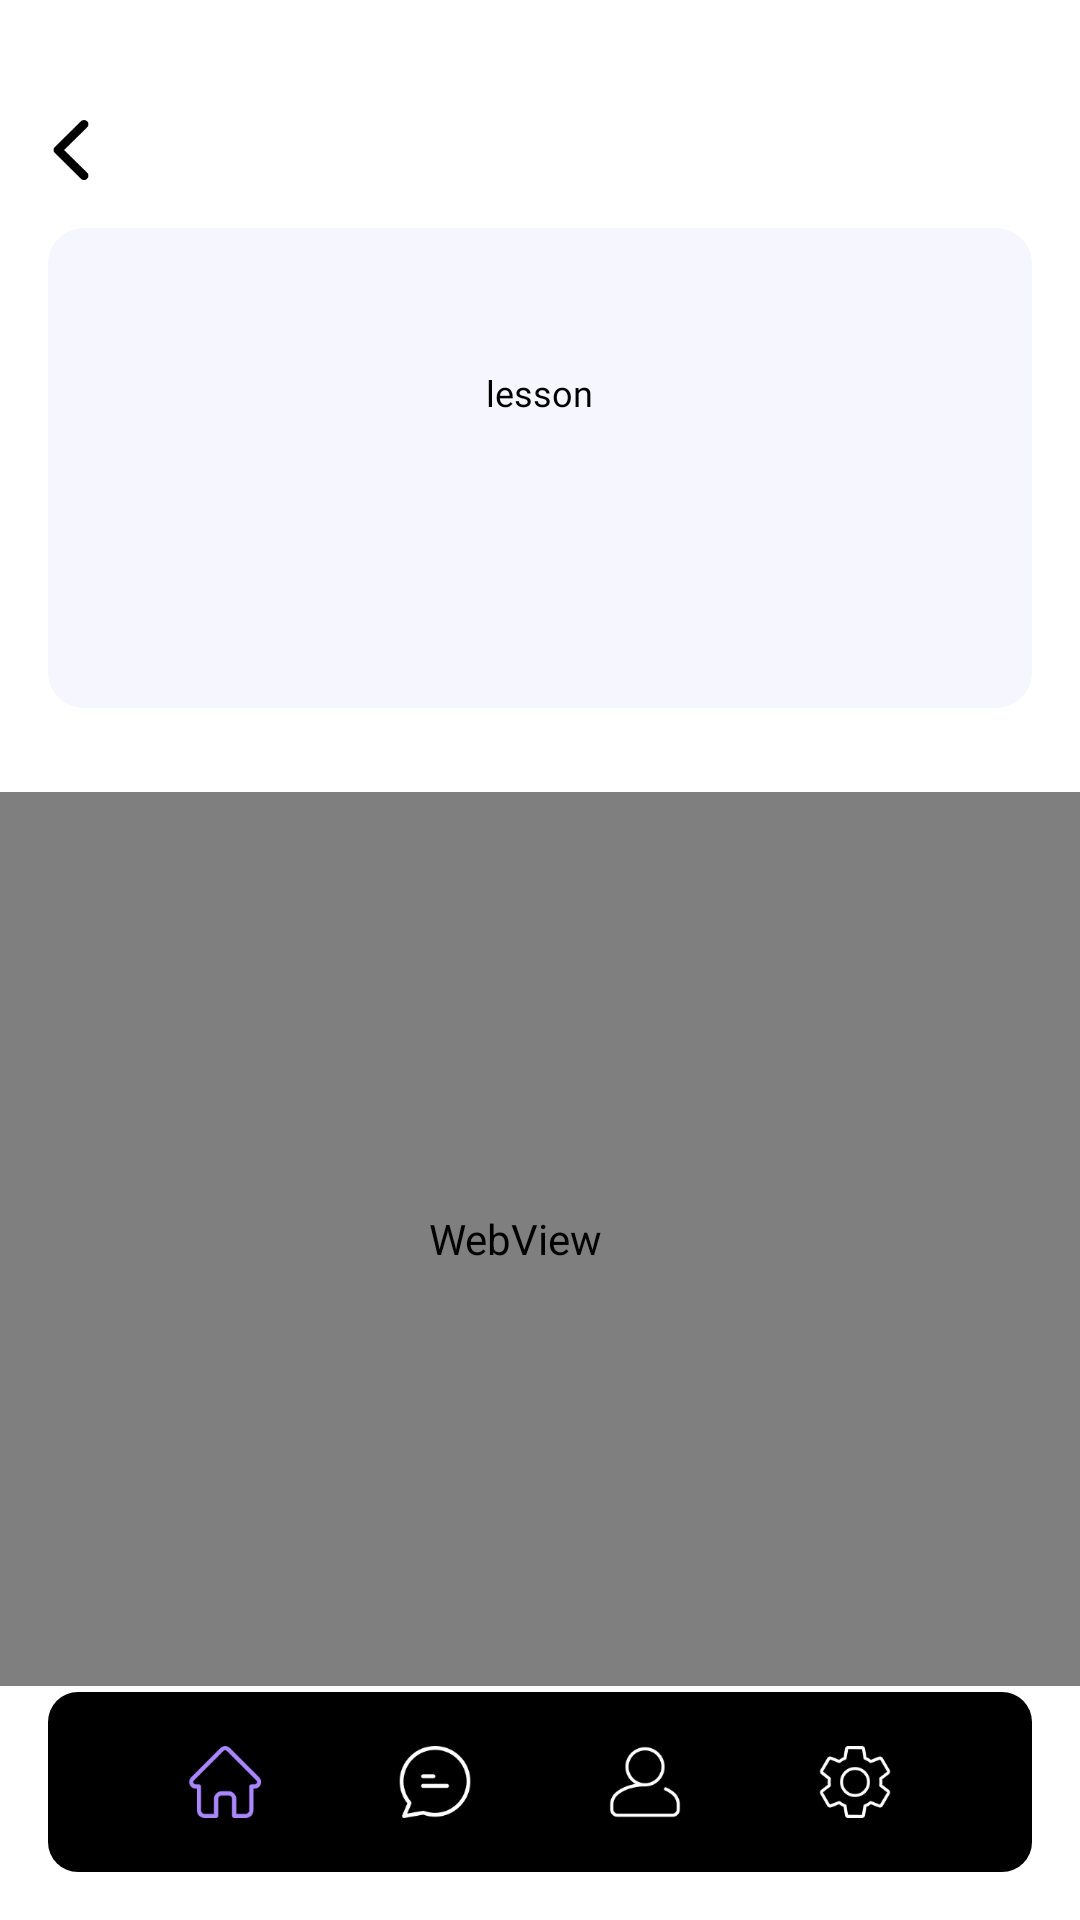

Icons on this 1080×1920 Android screen, each with its box as Rect(x1, y1, x2, y2):
backarrowblack: Rect(53, 120, 89, 180)
chatw: Rect(399, 1746, 471, 1818)
homep: Rect(189, 1746, 261, 1818)
profilew: Rect(610, 1747, 680, 1817)
settingsw: Rect(819, 1746, 891, 1818)
